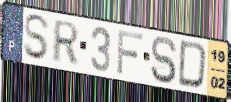3: (89, 25, 112, 73)
D: (177, 39, 209, 91)
F: (116, 28, 145, 76)
R: (50, 19, 81, 66)
S: (149, 35, 179, 86), (22, 13, 51, 62)
